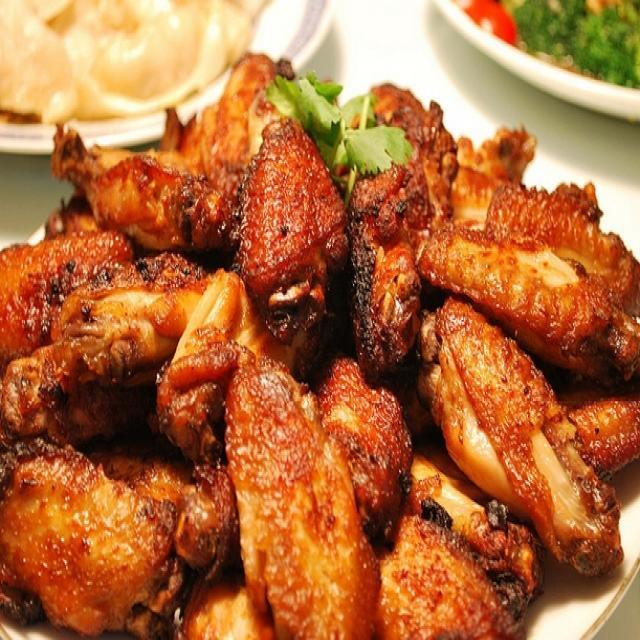Deep fried chicken wing: (17, 80, 627, 624)
